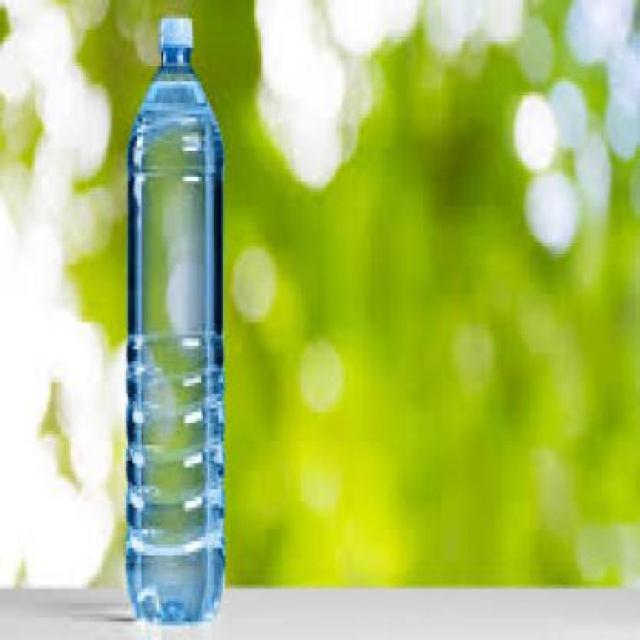Drinking: (112, 4, 238, 636)
